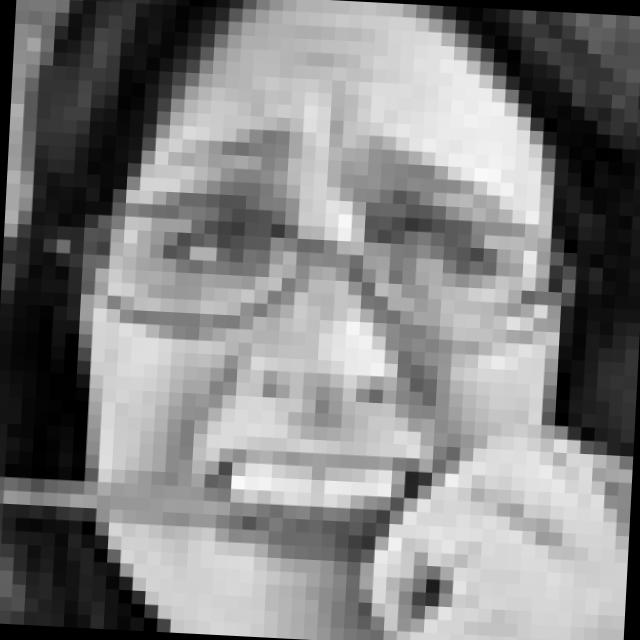fear: (114, 114, 536, 571)
